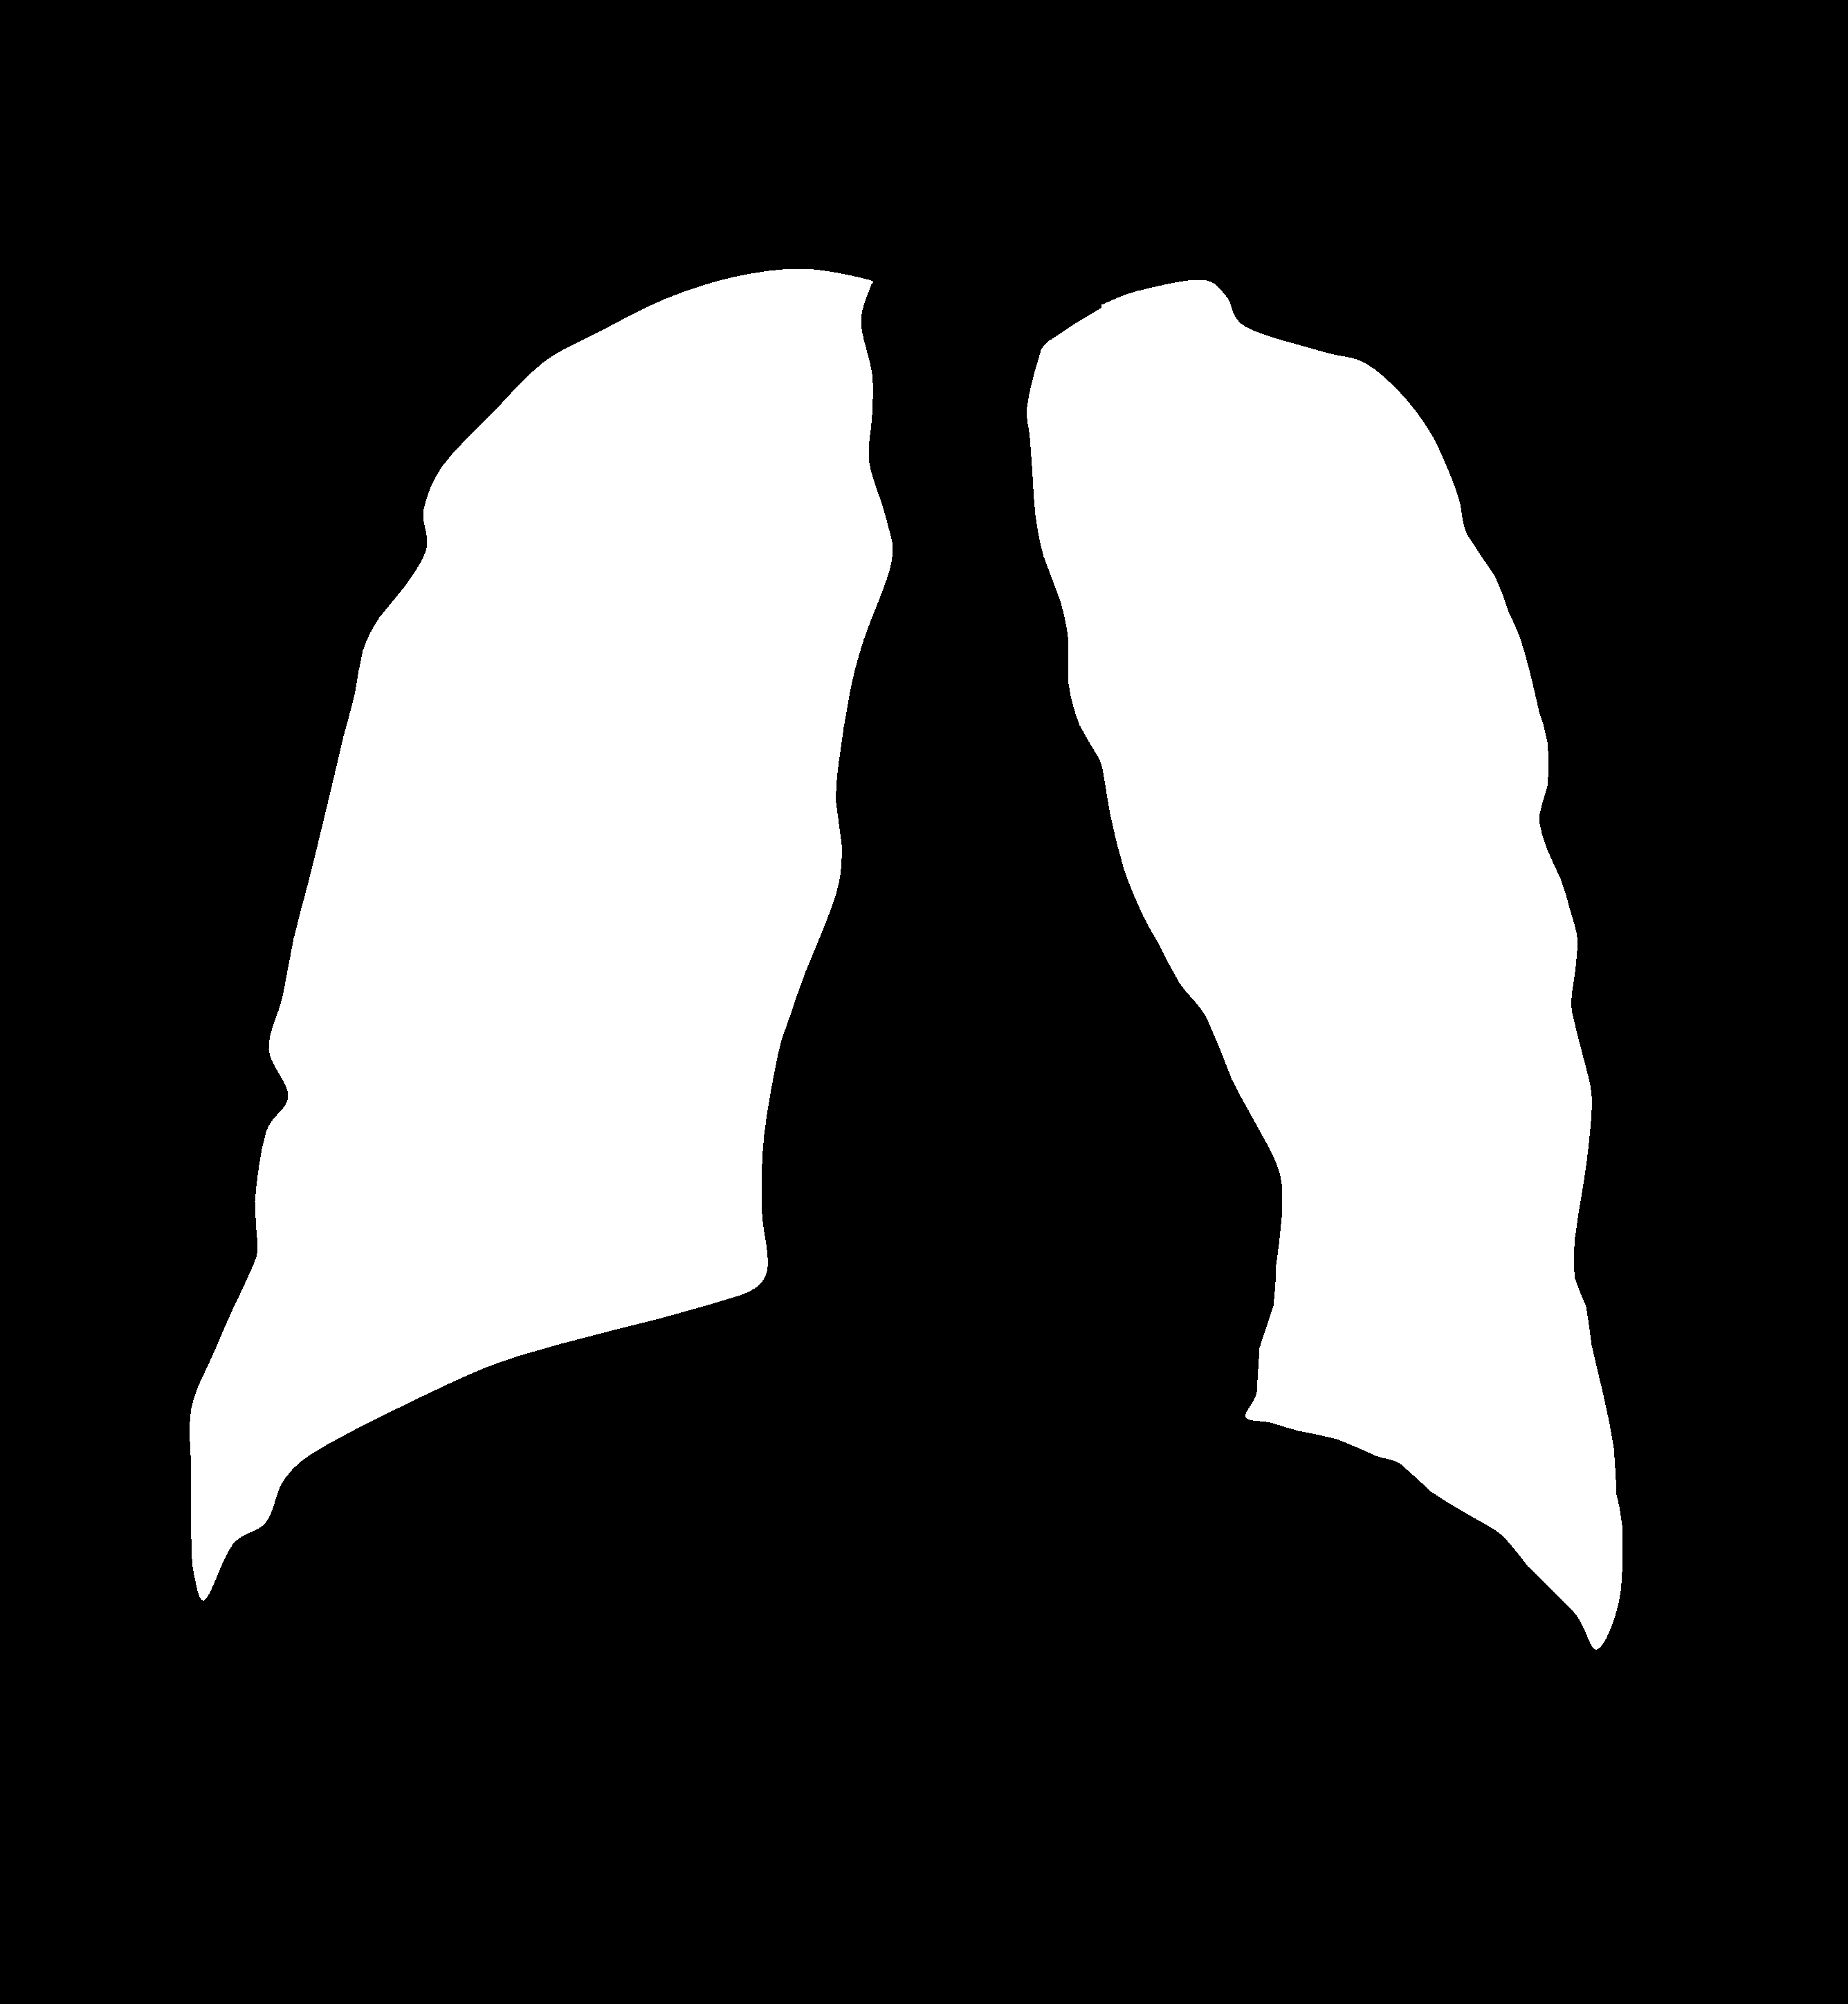heart: (760, 969, 1286, 1550)
left_lung: (196, 269, 893, 1611)
right_lung: (1027, 279, 1633, 1683)
